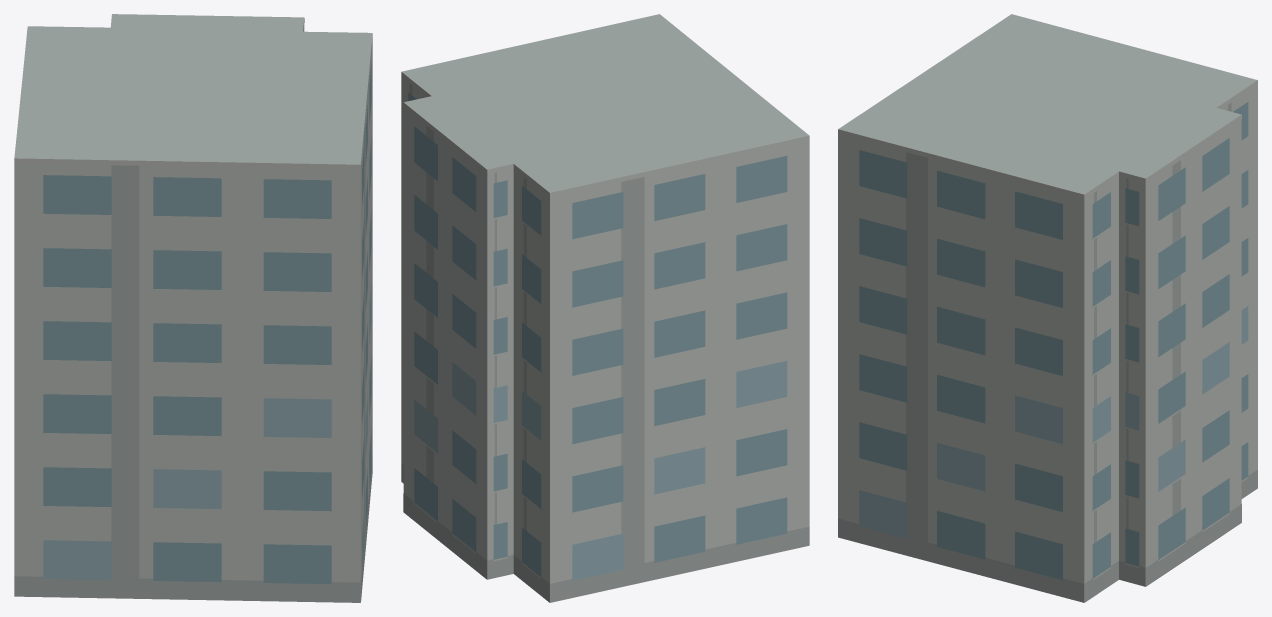
The model's file is survey-upis-32783690.glb.
3 renders of one model, left to right at view 1: azimuth 30°, elevation 25°; view 2: azimuth 150°, elevation 25°; view 3: azimuth 270°, elevation 25°, orthographic. The views are drawn at different scales.
Parts seen in each view (by area): view 1: survey-upis-32783690.tmp; view 2: survey-upis-32783690.tmp; view 3: survey-upis-32783690.tmp.
Part boxes in pixels (<box>): survey-upis-32783690.tmp: <box>14,14,372,602</box>; survey-upis-32783690.tmp: <box>401,14,809,602</box>; survey-upis-32783690.tmp: <box>838,14,1257,602</box>.
Size of the model in its own units: 19.7 by 20.75 by 19.35.
